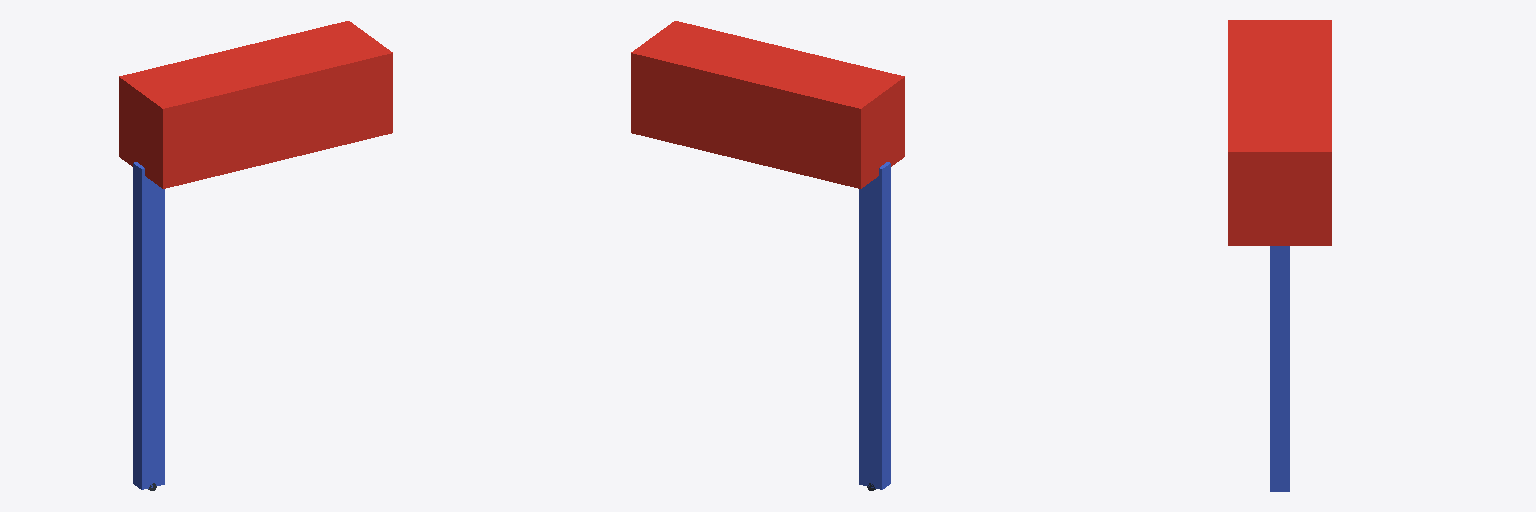
The robot description file, URDF, robot "camel_momentum_inverted_pendulum":
<?xml version="1.0" ?>
<robot name = "camel_momentum_inverted_pendulum">

  <material name="red">
    <color rgba="0.914 0.263 0.212 0.7"/>
  </material>

  <material name="stylish">
    <color rgba="0.243 0.271 0.318 0.9"/>
  </material>

  <material name="lime">
    <color rgba="0.804 0.863 0.223 0.9"/>
  </material>

  <material name="blue">
    <color rgba="0.329 0.463 0.890 0.7 "/>
  </material>

  <link name="world"/>
  <joint name="fixed_world" type="fixed">
    <parent link="world"/>
    <child link="base"/>
  </joint>

  <link name="base">
    <visual>
      <origin rpy="1.570796 0 0 " xyz="0 0 0.01275"/>
      <geometry>
        <cylinder length="0.02" radius="0.005"/>
      </geometry>
      <material name="stylish"/>
    </visual>
  </link>

  <joint name="base-pitch" type="continuous">
    <origin rpy="0 0 0" xyz="0 0 0.01275"/>
    <parent link="base"/>
    <child link="calf"/>
    <axis xyz="0 1 0"/>
  </joint>

  <link name="calf">
    <visual>
      <origin rpy="0.0 0 0" xyz="0 0 0.1"/>
      <geometry>
        <box size="0.03 0.02 0.2"/>
      </geometry>
      <material name="blue"/>
    </visual>

    <inertial>
      <mass value="0.2"/>
      <inertia ixx="0.00067333" ixy="0" ixz="0" iyy="0.00068167" iyx="0" iyz="0" izz="0.00002167" izx="0" izy="0"/>
    </inertial>

    <collision>
      <origin rpy="0.0 0 0" xyz="0 0 0.175"/>
      <geometry>
        <box size="0.03 0.02 0.2"/>
      </geometry>
    </collision>
  </link>

  <joint name="knee-pitch" type="revolute">
    <origin rpy="0 0 0" xyz="0 0 0.2"/>
    <parent link="calf"/>
    <child link="thigh"/>
    <axis xyz="0 1 0"/>
  </joint>

  <link name="thigh">
    <visual>
      <origin rpy="0.0 0 0" xyz="0 0 0.1"/>
      <geometry>
        <box size="0.03 0.02 0.2"/>
      </geometry>
      <material name="blue"/>
    </visual>

    <inertial>
      <mass value="0.2"/>
      <inertia ixx="0.00067333" ixy="0" ixz="0" iyy="0.00068167" iyx="0" iyz="0" izz="0.00002167" izx="0" izy="0"/>
    </inertial>

  </link>

  <joint name="hip-pitch" type="revolute">
    <origin rpy="0 0 0" xyz="0.0 0.0 0.2"/>
    <parent link="thigh"/>
    <child link="body"/>
    <axis xyz = "0 1 0"/>
<!--    <limit velocity= "17"/>-->
  </joint>

  <link name="body">
    <visual>
      <origin rpy="0 0 0" xyz="0.14 0.0 0.04"/>
      <geometry>
        <box size="0.3 0.1 0.1"/>
      </geometry>
      <material name="red"/>
    </visual>

    <inertial>
      <mass value="2.5"/>
      <inertia ixx="0.00416667" ixy="0.0" ixz="0.0" iyy="0.0208333" iyz="0.0" izz="0.0208333"/>
    </inertial>

  </link>

</robot>

--- What the picture shows (computed from the rendered views, not written in the file) ---
The picture shows the robot from 3 angles, left to right: view 1: azimuth 30°, elevation 25°; view 2: azimuth 150°, elevation 25°; view 3: azimuth 270°, elevation 25°; orthographic projection.
Model camel_momentum_inverted_pendulum with 5 links and 4 joints (2 revolute, 1 continuous, 1 fixed), rooted at world, posed all joints at 0.
Visible links, largest first — view 1: body, calf, thigh; view 2: body, calf, thigh; view 3: body, calf, thigh.
Link boxes in pixels (x1,y1,x2,y2): body: (119,21,392,188); calf: (133,324,164,489); thigh: (133,162,164,329); body: (631,21,904,188); calf: (859,324,890,489); thigh: (859,162,890,329); body: (1228,20,1331,245); calf: (1270,304,1289,491); thigh: (1270,246,1289,303).
Size in the robot's own frame: 0.305 by 0.1 by 0.495 metres.
Geometry: primitives only (box / cylinder / sphere), no mesh files.